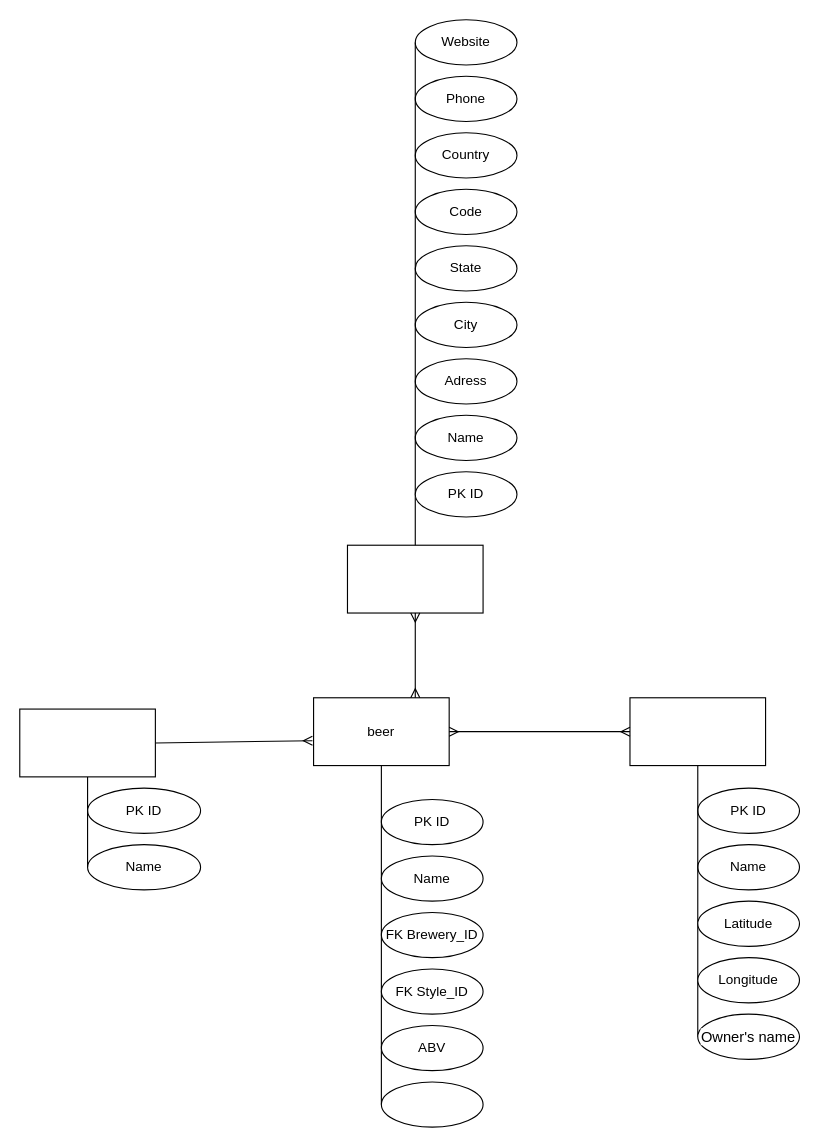
This 819x1147 diagram has some shape labels left out. Each missing label, with the box of its shape:
brewery: (346, 544, 483, 613)
IBU: (380, 1081, 483, 1127)
shop: (629, 697, 766, 766)
style: (19, 708, 155, 777)
